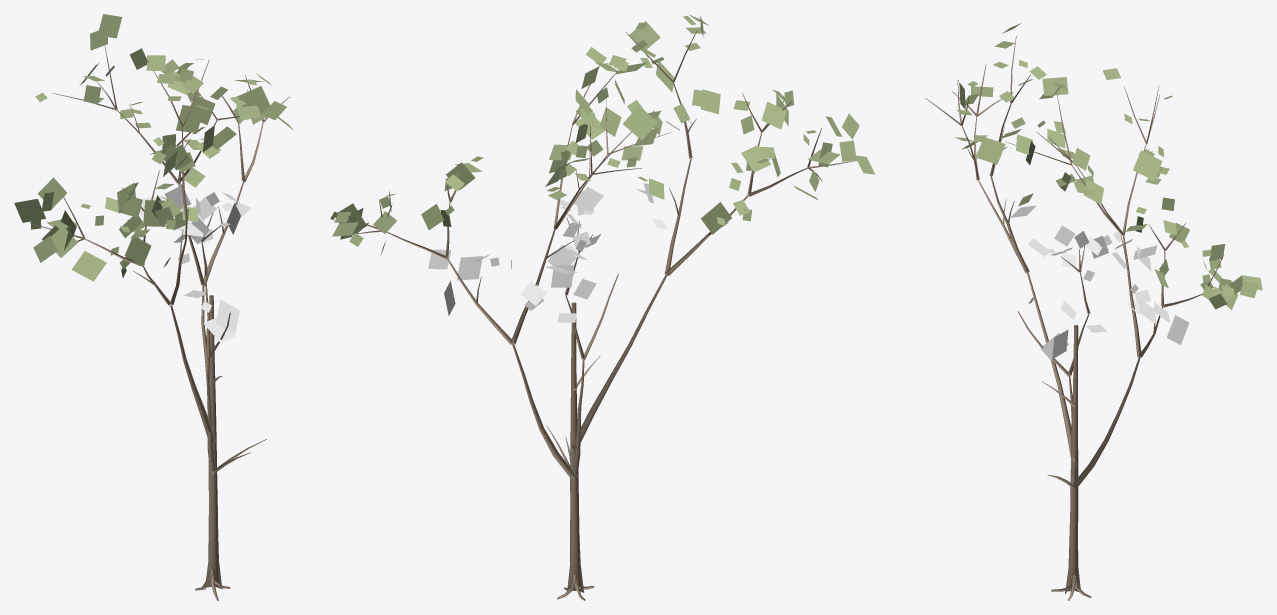
File: tree-b-far.glb
3 renders of one model, left to right at view 1: azimuth 30°, elevation 25°; view 2: azimuth 150°, elevation 25°; view 3: azimuth 270°, elevation 25°, orthographic. The views are drawn at different scales.
Parts seen in each view (by area): view 1: leafB, wood, leafBDeep; view 2: leafB, wood, leafBDeep; view 3: leafB, wood, leafBDeep.
Boxes of the visible parts, x1,y1,x2,y2 form: leafB: [14, 14, 293, 281]; wood: [30, 46, 290, 600]; leafBDeep: [139, 186, 250, 342]; leafB: [330, 14, 875, 255]; wood: [352, 31, 856, 600]; leafBDeep: [428, 183, 666, 322]; leafB: [955, 23, 1262, 310]; wood: [925, 36, 1224, 600]; leafBDeep: [1010, 205, 1189, 359].
Bounding box in the file's own units: 15.42 × 21.64 × 13.11.
